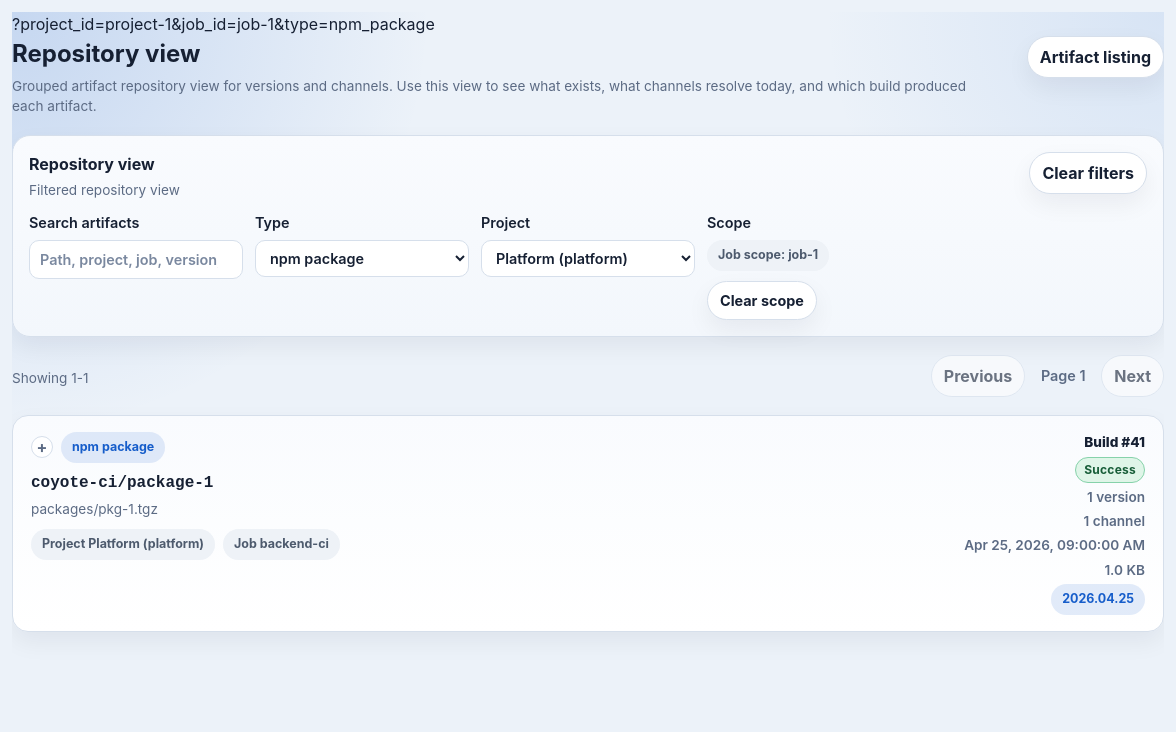
Test: ArtifactLogicalBrowserPage › clears the job scope chip without disturbing other filters
Check: the text "Job scope: job-1" is shown, box left=707, top=240, right=829, bottom=270
Click the button "Clear scope" at (762, 300), box left=707, top=280, right=817, bottom=320
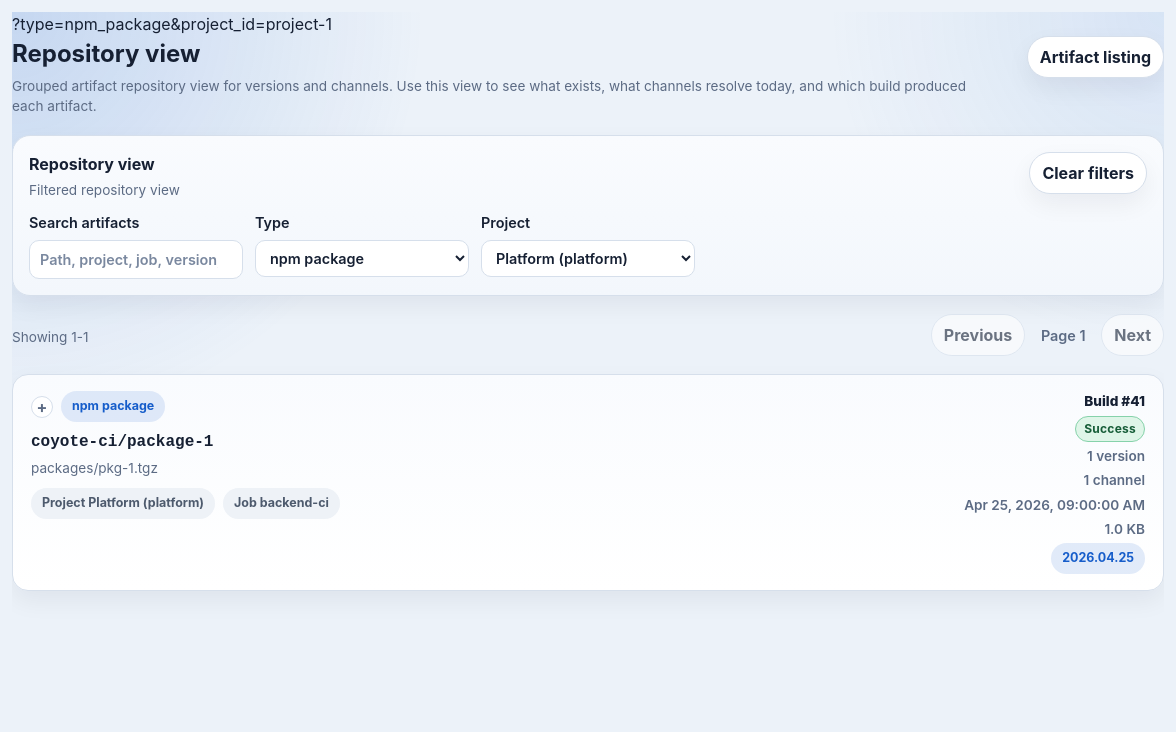
Check: the text with test id "location-search" reads "?type=npm_package&project_id=project-1", box left=12, top=14, right=332, bottom=34
